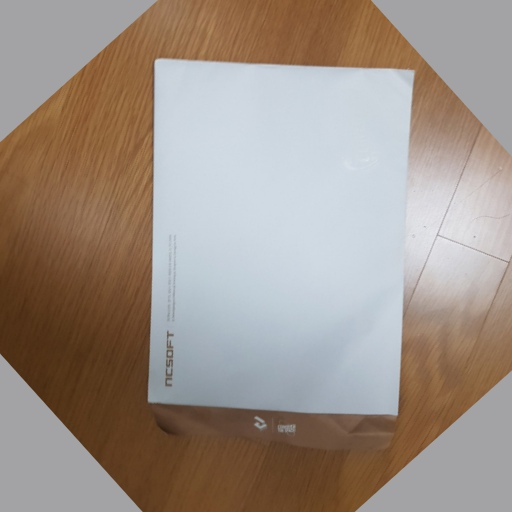Paper_2: (137, 48, 415, 451)
